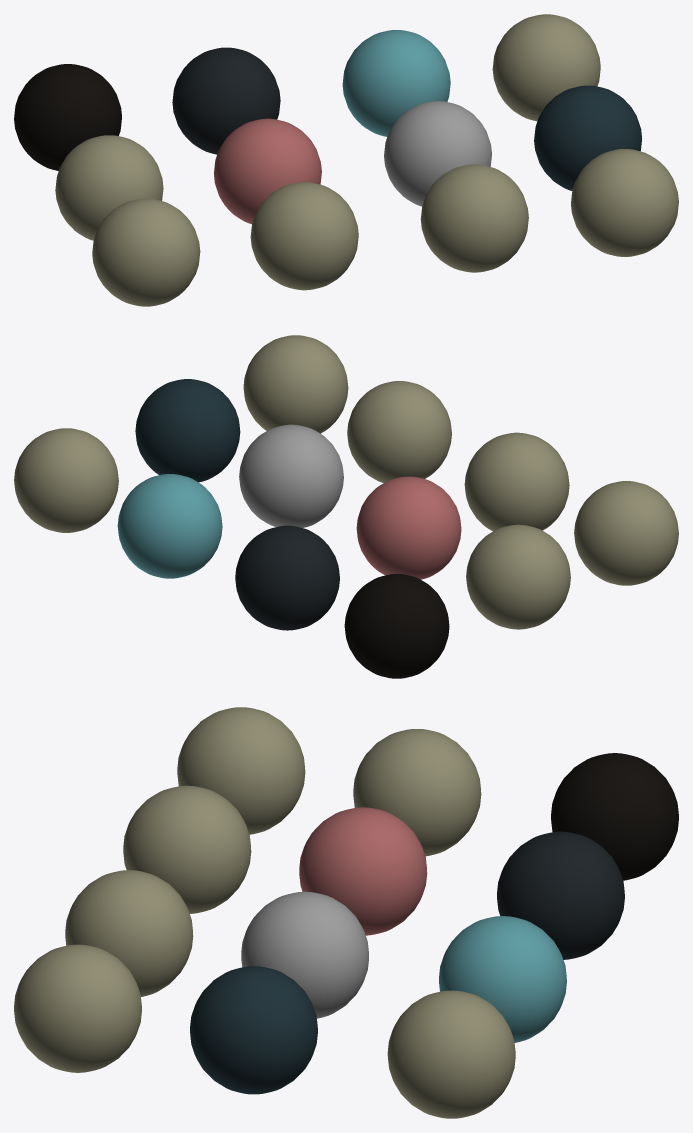
File: single-products-ball-saltshaker.glb
3 views of the same model, one above another, from view 1: azimuth 30°, elevation 25°; view 2: azimuth 150°, elevation 25°; view 3: azimuth 270°, elevation 25° (orthographic). The views are drawn at different scales.
Parts seen in each view (by area): view 1: Sphere.011, Sphere.012, Sphere.010, Sphere.009, Sphere.003, Sphere.001, Sphere.004, Sphere.002, Sphere.007, Sphere.006, Sphere.008, Sphere.005; view 2: Sphere.001, Sphere.008, Sphere.012, Sphere.003, Sphere.002, Sphere.004, Sphere.006, Sphere.007, Sphere.005, Sphere.010, Sphere.011, Sphere.009; view 3: Sphere.001, Sphere.005, Sphere.009, Sphere.007, Sphere.003, Sphere.011, Sphere.012, Sphere.004, Sphere.008, Sphere.002, Sphere.006, Sphere.010.
Part boxes in pixels (x1,y1,x2,y2): Sphere.011: (250, 182, 358, 290); Sphere.012: (92, 198, 200, 306); Sphere.010: (420, 164, 528, 272); Sphere.009: (571, 149, 678, 256); Sphere.003: (172, 47, 280, 154); Sphere.001: (492, 14, 600, 121); Sphere.004: (14, 64, 121, 170); Sphere.002: (342, 30, 450, 136); Sphere.007: (214, 118, 321, 224); Sphere.006: (384, 101, 491, 206); Sphere.008: (55, 135, 163, 240); Sphere.005: (534, 85, 641, 190); Sphere.001: (14, 428, 118, 532); Sphere.008: (466, 524, 570, 629); Sphere.012: (574, 481, 678, 585); Sphere.003: (235, 525, 339, 630); Sphere.002: (117, 474, 222, 578); Sphere.004: (344, 574, 449, 678); Sphere.006: (239, 424, 343, 527); Sphere.007: (356, 476, 461, 579); Sphere.005: (135, 379, 240, 482); Sphere.010: (347, 381, 451, 482); Sphere.011: (464, 432, 569, 531); Sphere.009: (243, 335, 348, 433); Sphere.001: (387, 990, 515, 1118); Sphere.005: (190, 966, 317, 1094); Sphere.009: (14, 944, 141, 1072); Sphere.007: (299, 807, 427, 935); Sphere.003: (497, 831, 624, 959); Sphere.011: (123, 785, 251, 913); Sphere.012: (177, 707, 305, 834); Sphere.004: (551, 753, 678, 880); Sphere.008: (353, 729, 481, 856); Sphere.002: (439, 916, 566, 1042); Sphere.006: (241, 891, 368, 1018); Sphere.010: (65, 870, 193, 996).
Size of the model in its own units: 1 by 0.1614 by 0.8356.
